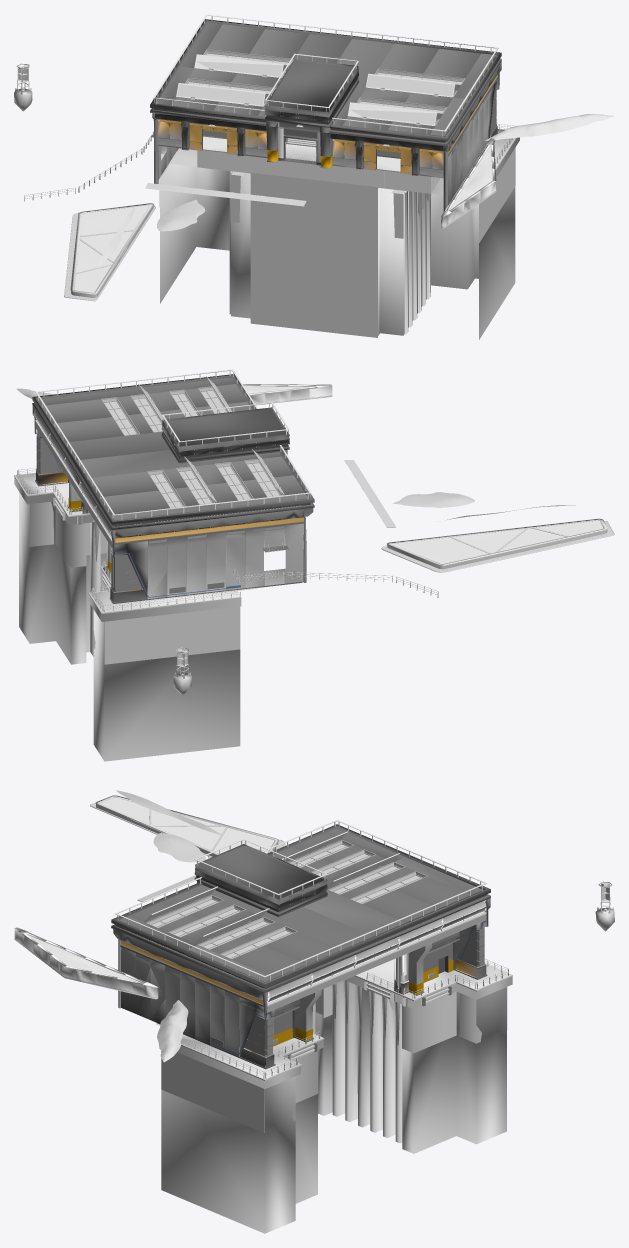
The model's file is cell_81_55.fbx.
3 views of the same model, one above another, from view 1: azimuth 30°, elevation 25°; view 2: azimuth 150°, elevation 25°; view 3: azimuth 270°, elevation 25° (orthographic). The views are drawn at different scales.
Parts seen in each view (by area): view 1: SM_H_Building_FutureTech_Dock_04b.mo, SM_H_Building_FutureTech_Dock_04.mo, SM_H_Building_FutureTech_Dock_02a.mo, SM_H_Building_FutureTech_Dock_04_Glass.mo, SM_H_Building_FutureTech_Dock_04e.mo, SM_H_Building_FutureTech_Dock_04b_Decal.mo, SM_H_Building_FutureTech_Dock_04a.mo, SM_I_RoadFacility_Ground_H_05.mo.003, SM_I_Terrain_Road_Desert_Decal_Sand_07.mo.011, SM_H_Building_FutureTech_Dock_01b.mo, SM_I_Terrain_Road_Desert_Decal_Sand_12.mo.004, SM_H_Building_FutureTech_NavigationMark_01.mo.001 (+1 smaller); view 2: SM_H_Building_FutureTech_Dock_04.mo, SM_H_Building_FutureTech_Dock_04b.mo, SM_H_Building_FutureTech_Dock_04b_Decal.mo, SM_H_Building_FutureTech_Dock_02a.mo, SM_H_Building_FutureTech_Dock_04_Glass.mo, SM_H_Building_FutureTech_Dock_04f.mo, SM_I_RoadFacility_Ground_H_05.mo.003, SM_H_Building_FutureTech_Dock_04d.mo, SM_I_Terrain_Road_Desert_Decal_Sand_12.mo.004, SM_H_Building_FutureTech_Dock_01b.mo, SM_H_Building_FutureTech_Dock_02c.mo, SM_H_Building_FutureTech_NavigationMark_01.mo.001; view 3: SM_H_Building_FutureTech_Dock_04.mo, SM_H_Building_FutureTech_Dock_04b.mo, SM_H_Building_FutureTech_Dock_04b_Decal.mo, SM_H_Building_FutureTech_Dock_04f.mo, SM_H_Building_FutureTech_Dock_02a.mo, SM_I_RoadFacility_Ground_H_05.mo.003, SM_H_Building_FutureTech_Dock_04_Glass.mo, SM_H_Building_FutureTech_Dock_04d.mo, SM_I_Terrain_Road_Desert_Decal_Sand_07.mo.011, SM_I_Terrain_Road_Desert_Decal_Sand_12.mo.004, SM_I_Terrain_Road_Desert_Decal_Sand_02.mo.014, SM_H_Building_FutureTech_NavigationMark_01.mo.001.
Part boxes in pixels (x1,y1,x2,y2): SM_H_Building_FutureTech_Dock_04b.mo: (160, 128, 516, 339); SM_H_Building_FutureTech_Dock_04.mo: (150, 14, 501, 211); SM_H_Building_FutureTech_Dock_02a.mo: (64, 203, 155, 301); SM_H_Building_FutureTech_Dock_04_Glass.mo: (177, 53, 461, 124); SM_H_Building_FutureTech_Dock_04e.mo: (197, 144, 440, 193); SM_H_Building_FutureTech_Dock_04b_Decal.mo: (159, 137, 519, 242); SM_H_Building_FutureTech_Dock_04a.mo: (158, 113, 448, 173); SM_I_RoadFacility_Ground_H_05.mo.003: (441, 138, 496, 228); SM_I_Terrain_Road_Desert_Decal_Sand_07.mo.011: (485, 114, 614, 140); SM_H_Building_FutureTech_Dock_01b.mo: (145, 183, 306, 206); SM_I_Terrain_Road_Desert_Decal_Sand_12.mo.004: (157, 199, 205, 231); SM_H_Building_FutureTech_NavigationMark_01.mo.001: (14, 63, 32, 111); SM_H_Building_FutureTech_Dock_04.mo: (32, 369, 314, 599); SM_H_Building_FutureTech_Dock_04b.mo: (14, 472, 256, 761); SM_H_Building_FutureTech_Dock_04b_Decal.mo: (14, 477, 241, 664); SM_H_Building_FutureTech_Dock_02a.mo: (381, 518, 614, 572); SM_H_Building_FutureTech_Dock_04_Glass.mo: (104, 379, 282, 507); SM_H_Building_FutureTech_Dock_04f.mo: (35, 422, 302, 603); SM_I_RoadFacility_Ground_H_05.mo.003: (243, 384, 332, 405); SM_H_Building_FutureTech_Dock_04d.mo: (16, 468, 240, 611); SM_I_Terrain_Road_Desert_Decal_Sand_12.mo.004: (393, 492, 474, 507); SM_H_Building_FutureTech_Dock_01b.mo: (344, 460, 395, 527); SM_H_Building_FutureTech_Dock_02c.mo: (233, 568, 438, 597); SM_H_Building_FutureTech_NavigationMark_01.mo.001: (173, 647, 191, 695); SM_H_Building_FutureTech_Dock_04.mo: (111, 819, 490, 1057); SM_H_Building_FutureTech_Dock_04b.mo: (155, 959, 512, 1233); SM_H_Building_FutureTech_Dock_04b_Decal.mo: (161, 976, 512, 1132); SM_H_Building_FutureTech_Dock_04f.mo: (157, 914, 487, 1069); SM_H_Building_FutureTech_Dock_02a.mo: (90, 795, 285, 857); SM_I_RoadFacility_Ground_H_05.mo.003: (14, 927, 158, 999); SM_H_Building_FutureTech_Dock_04_Glass.mo: (152, 844, 421, 958); SM_H_Building_FutureTech_Dock_04d.mo: (187, 959, 509, 1078); SM_I_Terrain_Road_Desert_Decal_Sand_07.mo.011: (157, 1000, 188, 1062); SM_I_Terrain_Road_Desert_Decal_Sand_12.mo.004: (153, 833, 206, 862); SM_I_Terrain_Road_Desert_Decal_Sand_02.mo.014: (116, 790, 225, 836); SM_H_Building_FutureTech_NavigationMark_01.mo.001: (595, 881, 614, 931).
Bounding box in the file's own units: 94.48 × 39.85 × 82.48.
